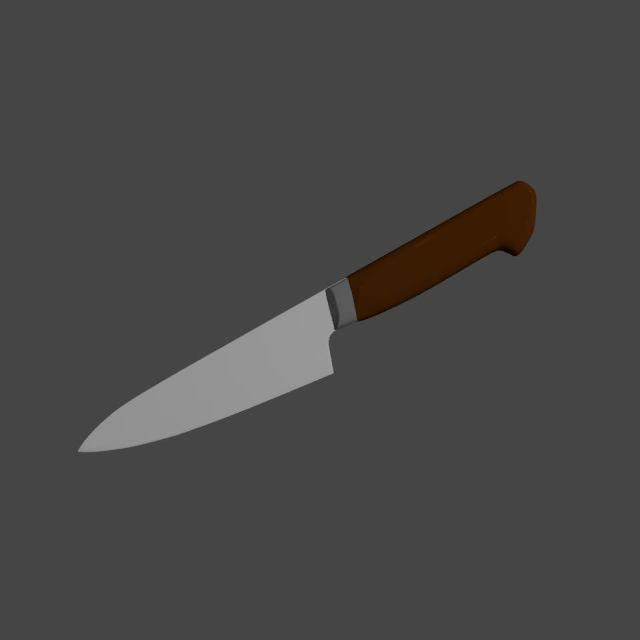knife: (346, 180, 536, 322)
